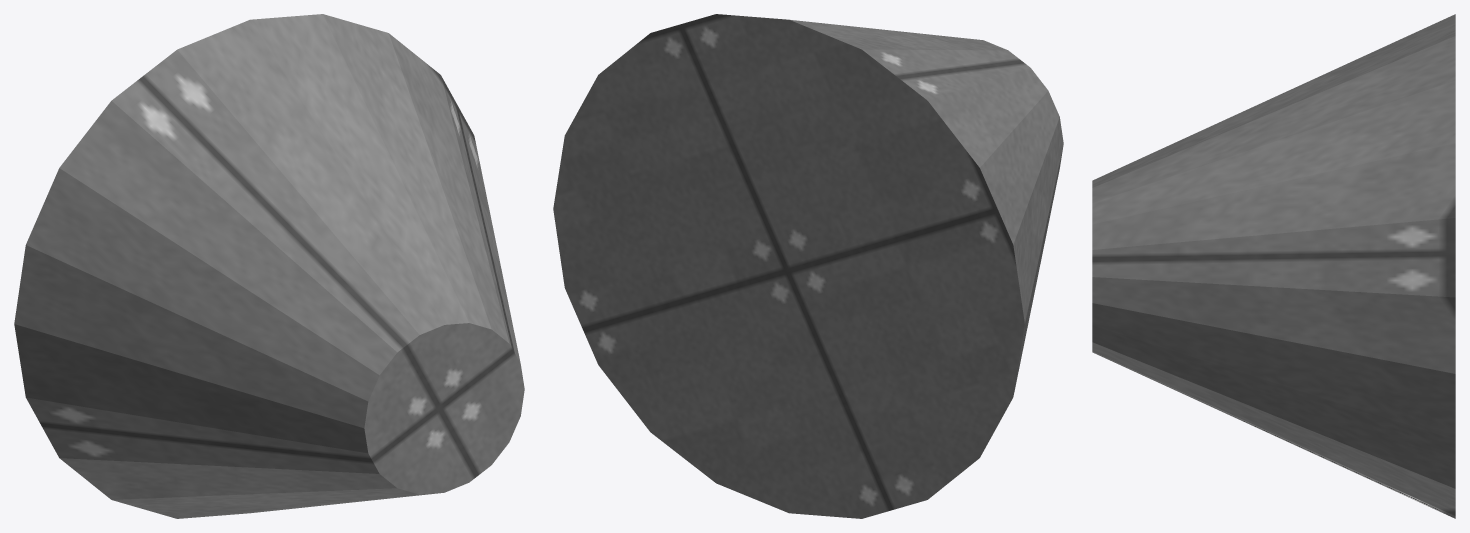
File: attach_2.glb
The picture shows the model from 3 angles, left to right: view 1: azimuth 30°, elevation 25°; view 2: azimuth 150°, elevation 25°; view 3: azimuth 270°, elevation 25°; orthographic projection. The views are drawn at different scales.
Visible parts, largest first — view 1: attach_2; view 2: attach_2; view 3: attach_2.
Boxes of the visible parts, x1,y1,x2,y2 form: attach_2: (14, 14, 524, 518); attach_2: (553, 14, 1063, 518); attach_2: (1092, 14, 1455, 518).
Bounding box in the file's own units: 0.56 × 0.56 × 0.4.
1 material, 1 textured.
